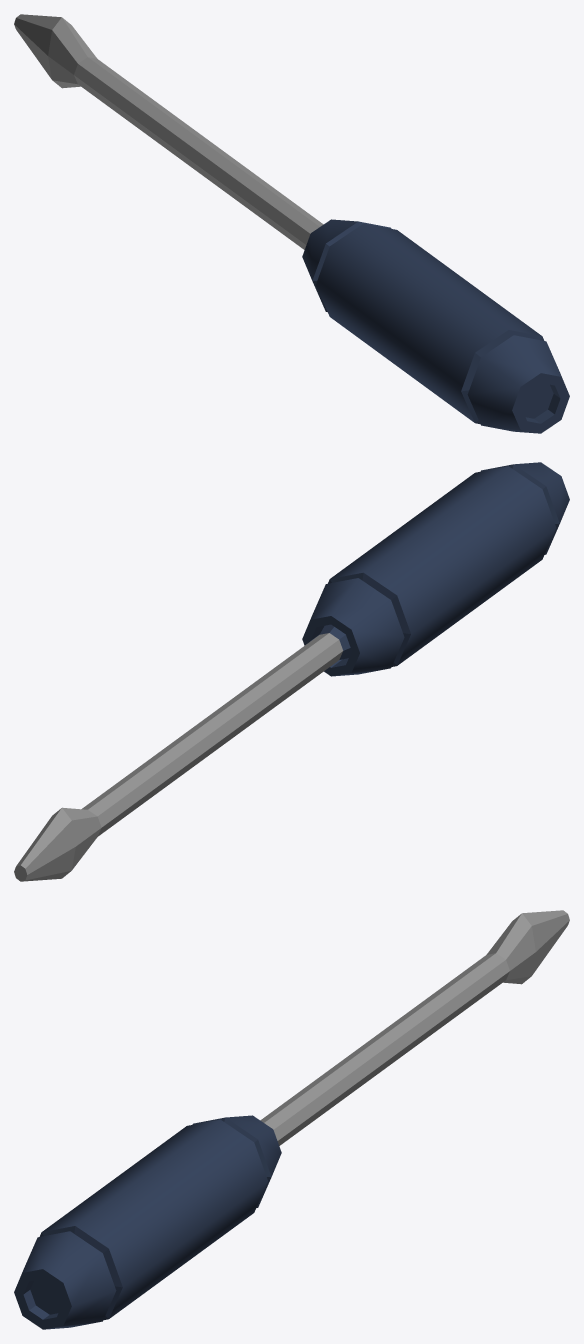
Rendered from SM_screwdriver_01.fbx.
3 views of the same model, one above another, from view 1: azimuth 30°, elevation 25°; view 2: azimuth 150°, elevation 25°; view 3: azimuth 330°, elevation 25° (orthographic).
Visible parts, largest first — view 1: screwdriver_01; view 2: screwdriver_01; view 3: screwdriver_01.
Part boxes in pixels (x1,y1,x2,y2): screwdriver_01: (14,14,569,433); screwdriver_01: (14,462,569,881); screwdriver_01: (14,910,569,1329).
Size of the model in its own units: 4.64 by 4.64 by 43.88.
